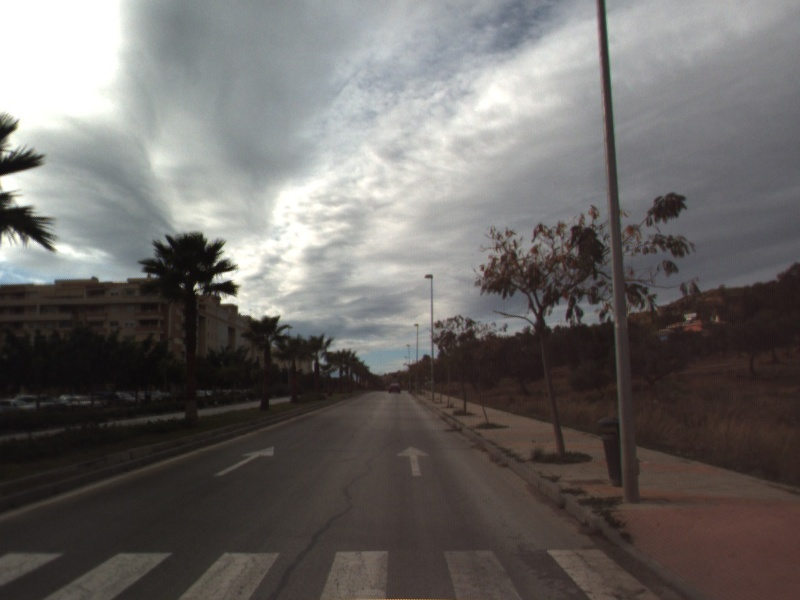STRAIGHT: (211, 444, 276, 478), (395, 444, 432, 478)
